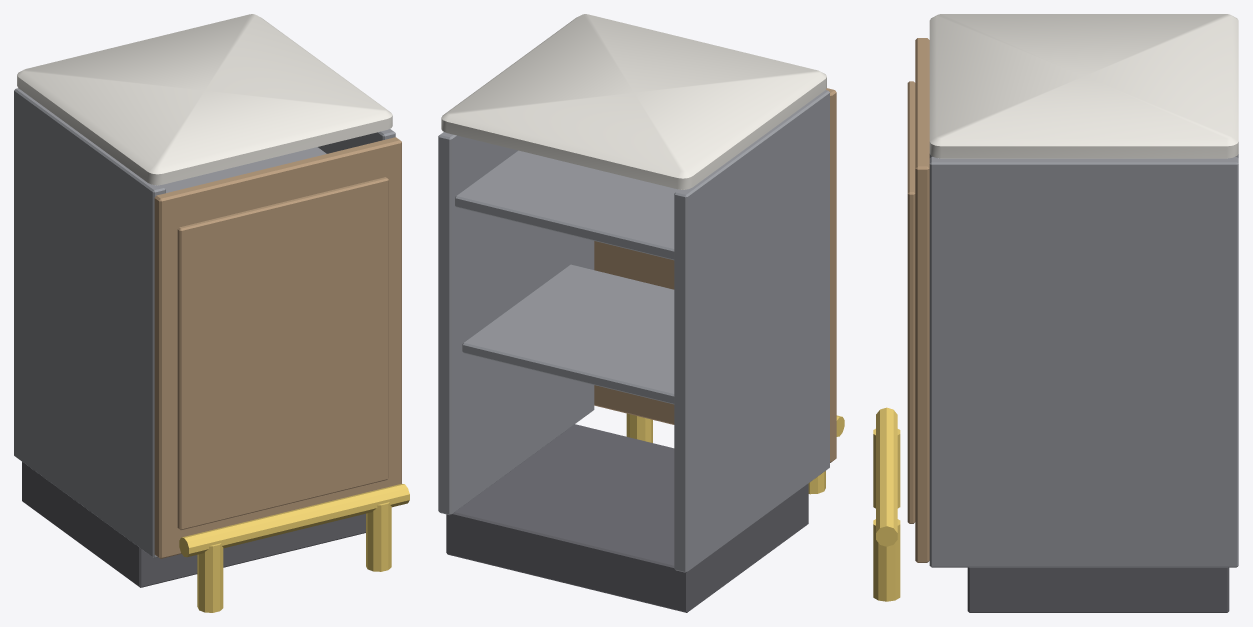
Rendered from nightclub-and-dj-booth-bar-counter-corner-ede4b71b__34116.glb.
3 renders of one model, left to right at view 1: azimuth 30°, elevation 25°; view 2: azimuth 150°, elevation 25°; view 3: azimuth 270°, elevation 25°, orthographic. The views are drawn at different scales.
Visible parts, largest first — view 1: bar-counter-corner; view 2: bar-counter-corner; view 3: bar-counter-corner.
Part boxes in pixels (x1,y1,x2,y2): bar-counter-corner: (14,14,409,612); bar-counter-corner: (438,14,844,612); bar-counter-corner: (873,14,1238,612).
Size of the model in its own units: 0.65 by 1.1 by 0.7685.
